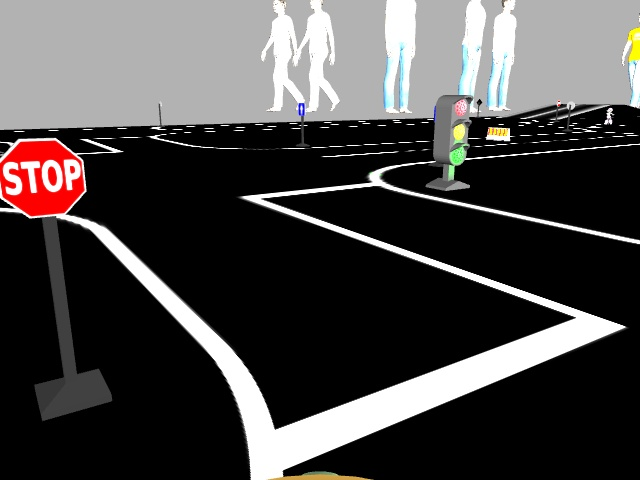ClosedRoadStand: (486, 126, 508, 139)
Stop: (2, 138, 88, 215)
TrafficLight: (436, 96, 466, 166)
